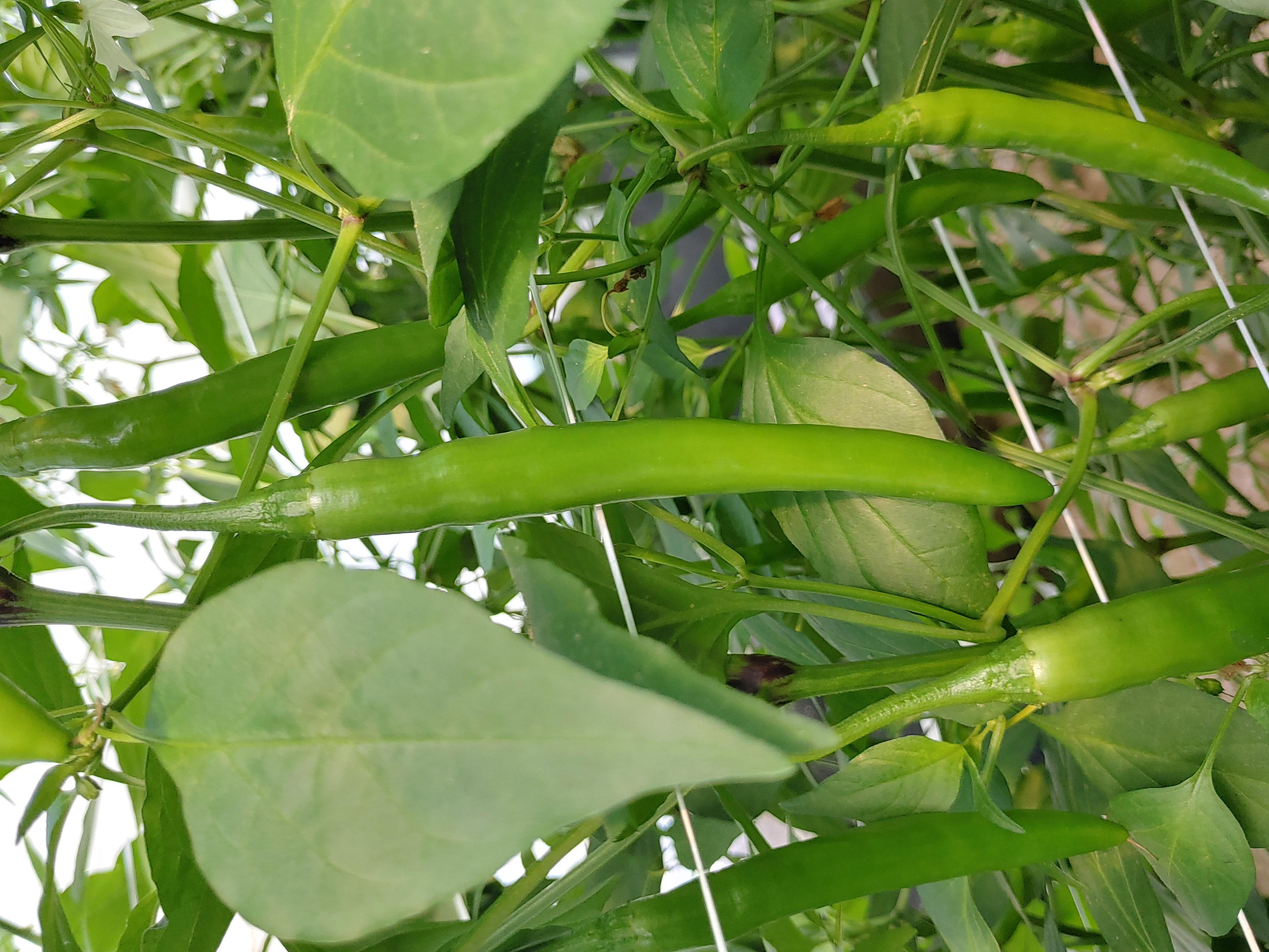Buah Cabai Sehat: (247, 410, 1048, 552), (571, 803, 1135, 952), (0, 315, 512, 468), (883, 87, 1269, 234), (991, 567, 1269, 720)
Daun Cabai Sehat: (142, 558, 797, 949)
